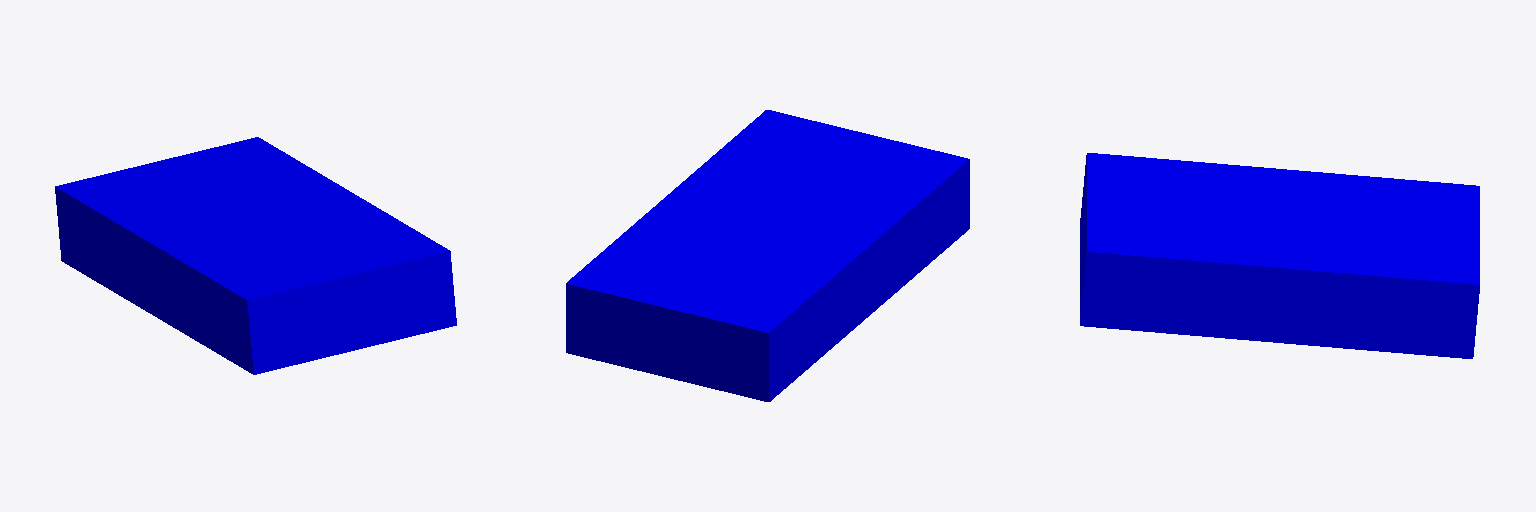
Rendered from planes_1-dynamic - BLK2GO-3630355-Scan 080 5.obj.
3 renders of one model, left to right at view 1: azimuth 30°, elevation 25°; view 2: azimuth 150°, elevation 25°; view 3: azimuth 270°, elevation 25°, orthographic.
Visible parts, largest first — view 1: 1-dynamic_-_BLK2GO-[number redacted]-Scan_080_5_0; view 2: 1-dynamic_-_BLK2GO-[number redacted]-Scan_080_5_0; view 3: 1-dynamic_-_BLK2GO-[number redacted]-Scan_080_5_0.
Part boxes in pixels (x1,y1,x2,y2): 1-dynamic_-_BLK2GO-[number redacted]-Scan_080_5_0: (55,137,456,374); 1-dynamic_-_BLK2GO-[number redacted]-Scan_080_5_0: (566,110,969,401); 1-dynamic_-_BLK2GO-[number redacted]-Scan_080_5_0: (1080,153,1479,358).
Size of the model in its own units: 1.05 by 0.4942 by 1.72.